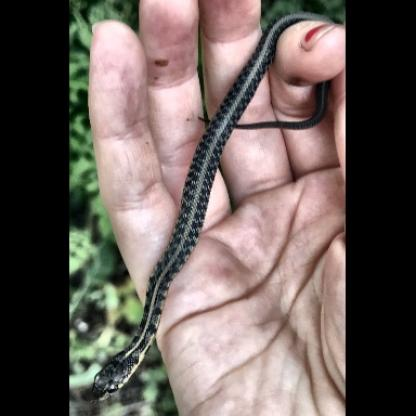Snake: (83, 123, 218, 408)
